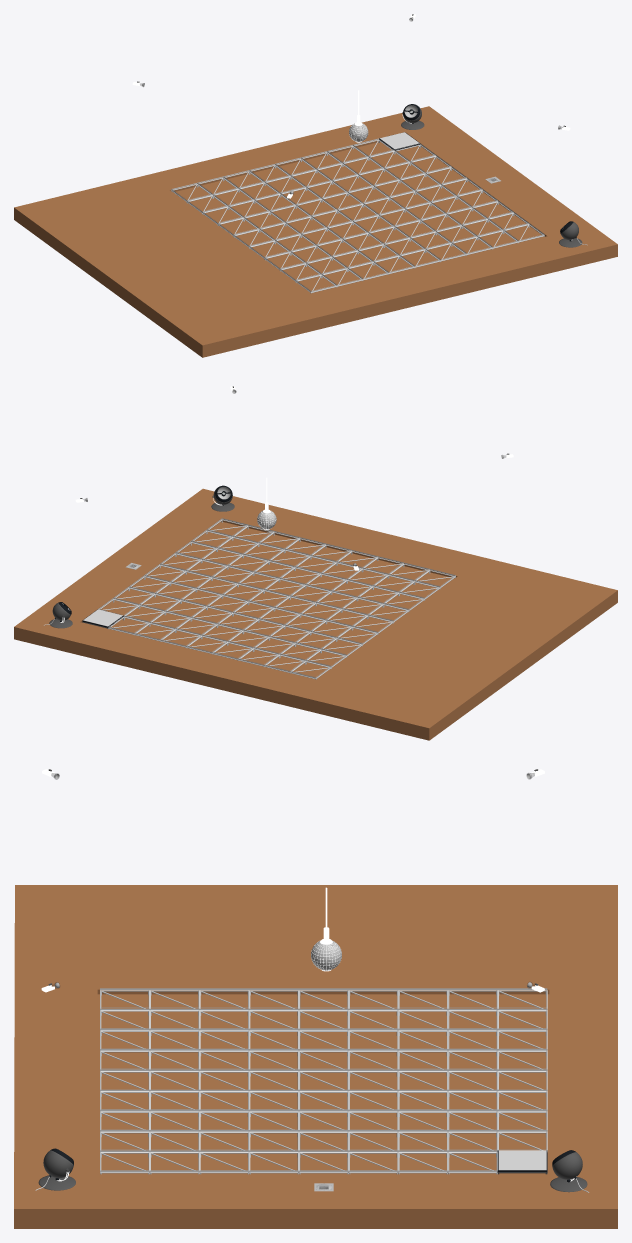
The model's file is Podium.fbx.
3 views of the same model, one above another, from view 1: azimuth 30°, elevation 25°; view 2: azimuth 150°, elevation 25°; view 3: azimuth 270°, elevation 25° (orthographic). The views are drawn at different scales.
Parts seen in each view (by area): view 1: Null; view 2: Null; view 3: Null, Cap_1, Sphere_1.
Boxes of the visible parts, <box> form: Null: <box>14,106,617,357</box>; Null: <box>14,488,617,740</box>; Null: <box>14,885,617,1228</box>; Cap_1: <box>498,1150,546,1169</box>; Sphere_1: <box>311,940,341,970</box>.
Size of the model in its own units: 10.67 by 3.3 by 8.4.
